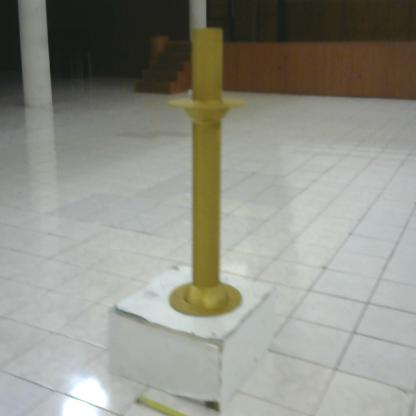pole: (163, 24, 254, 324)
